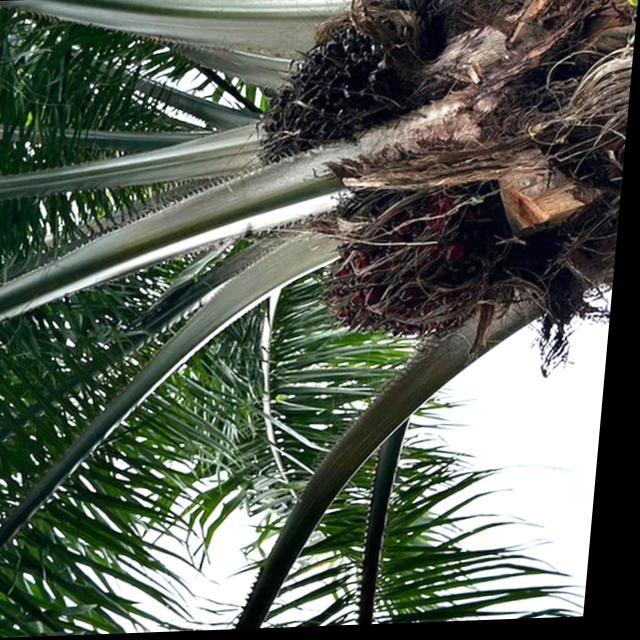ripe: (310, 179, 492, 329)
